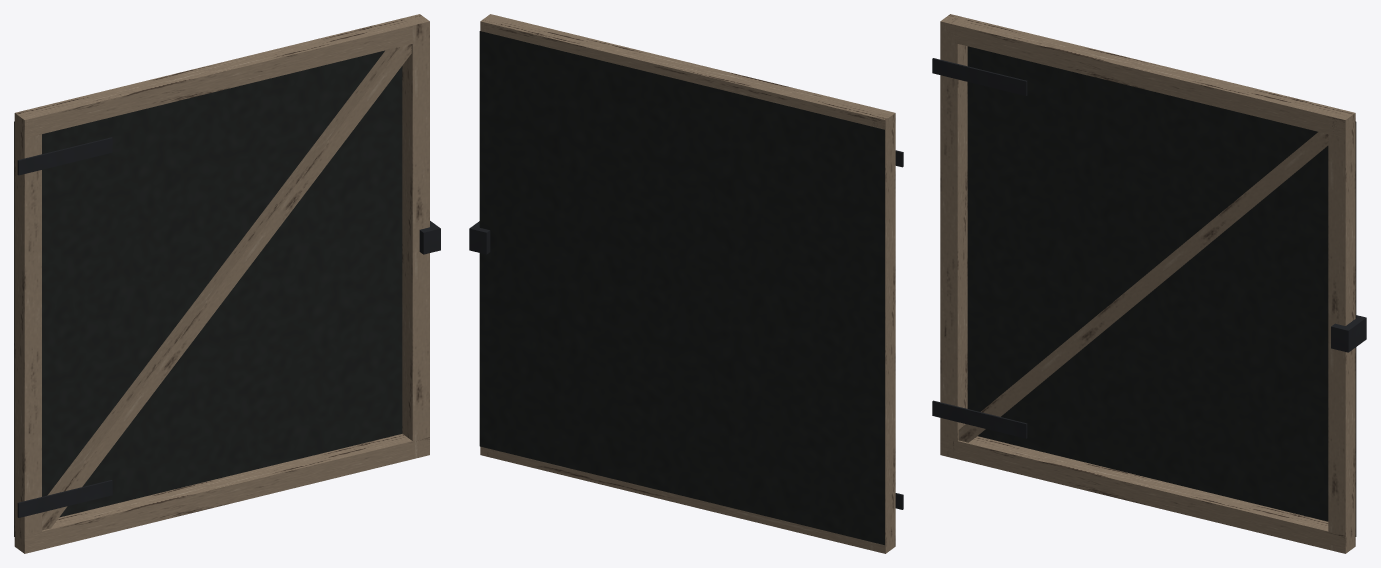
File: fence_splitrail_gate.gltf
The picture shows the model from 3 angles, left to right: view 1: azimuth 30°, elevation 25°; view 2: azimuth 150°, elevation 25°; view 3: azimuth 330°, elevation 25°; orthographic projection.
Parts seen in each view (by area): view 1: fence_splitrail_gate; view 2: fence_splitrail_gate; view 3: fence_splitrail_gate.
Boxes of the visible parts, <box> form: fence_splitrail_gate: <box>14,14,440,553</box>; fence_splitrail_gate: <box>469,14,903,553</box>; fence_splitrail_gate: <box>932,14,1366,553</box>.
Size of the model in its own units: 1.2 by 1.19 by 0.09.
Materials: 3 (3 with a texture image).
